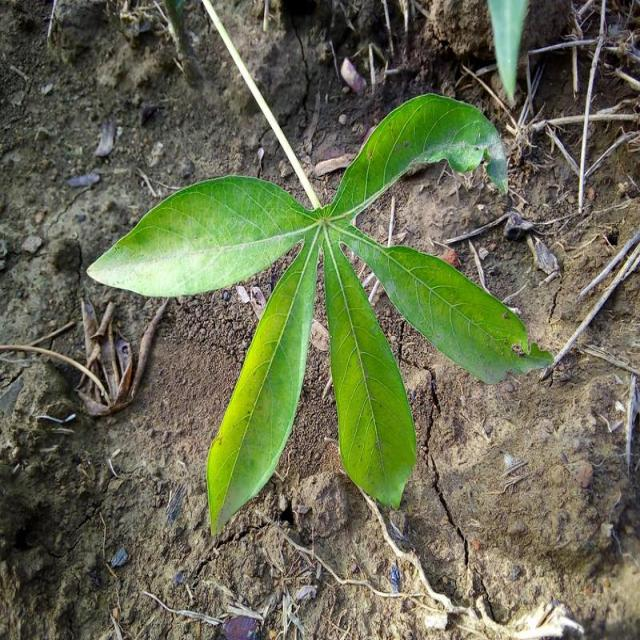cassava leaf: (85, 88, 552, 534), (320, 224, 417, 509)
